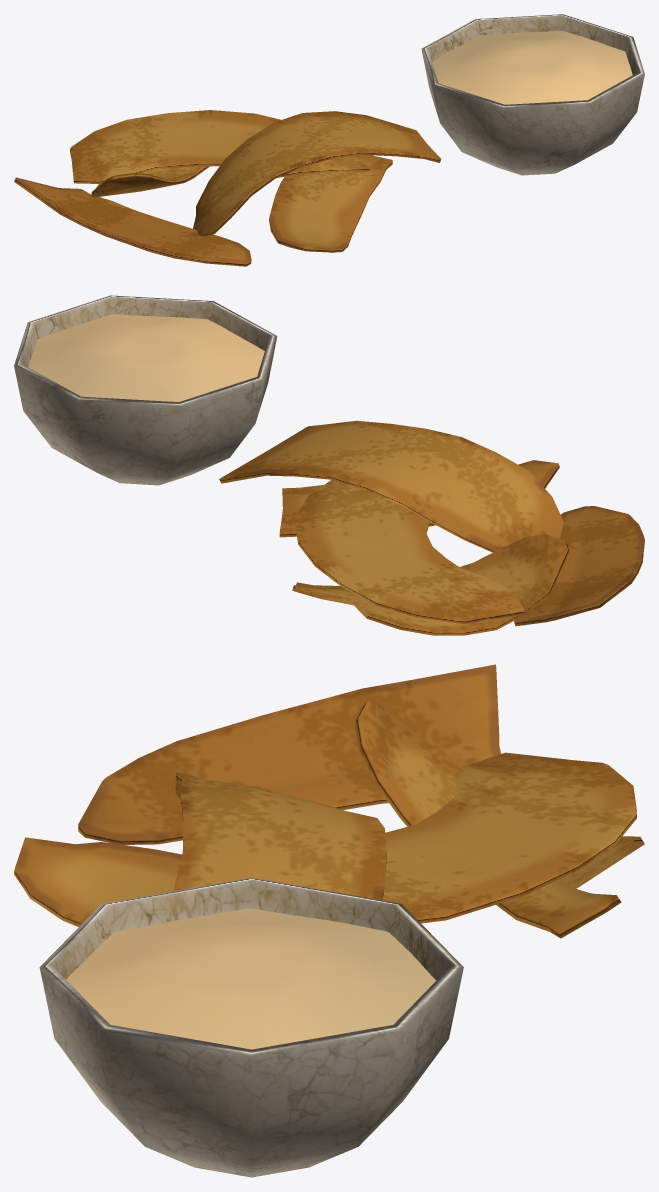
The model's file is arracacha5.glb.
3 renders of one model, top to bottom at view 1: azimuth 30°, elevation 25°; view 2: azimuth 150°, elevation 25°; view 3: azimuth 270°, elevation 25°, orthographic. The views are drawn at different scales.
Parts seen in each view (by area): view 1: polySurface22, pDisc3; view 2: polySurface22, pDisc3; view 3: polySurface22, pDisc3.
Part boxes in pixels (x1,y1,x2,y2): polySurface22: (14, 110, 441, 266); pDisc3: (421, 14, 644, 175); polySurface22: (219, 420, 644, 635); pDisc3: (14, 295, 277, 485); polySurface22: (14, 664, 644, 938); pDisc3: (39, 877, 463, 1177).
Size of the model in its own units: 1.91 by 0.3249 by 1.03.
Materials: 3 (3 with a texture image).
